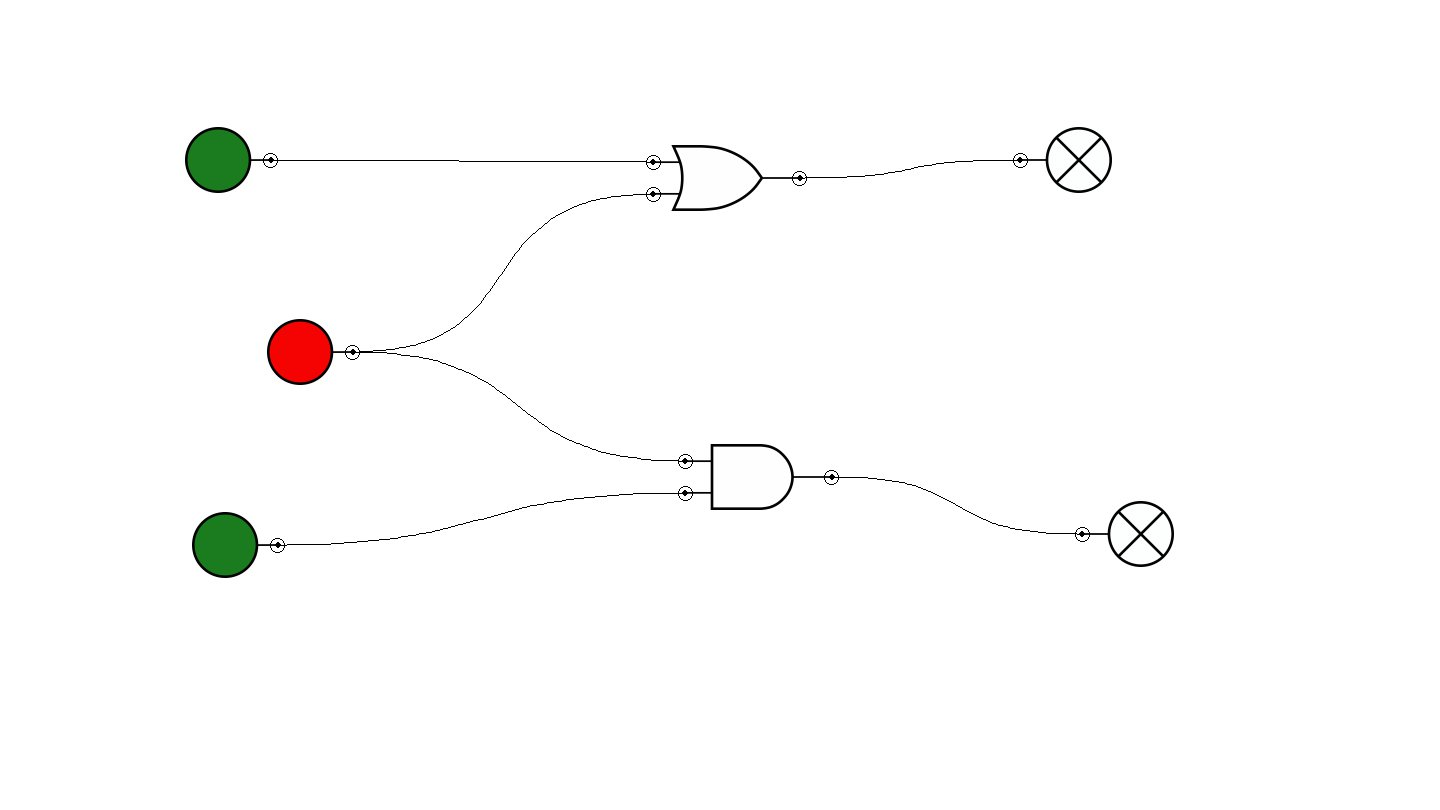and: (678, 444, 839, 510)
bulb: (1075, 501, 1174, 567), (1013, 127, 1112, 193)
or: (646, 145, 807, 211)
switch_False: (267, 319, 360, 385)
switch_True: (185, 127, 278, 193), (192, 512, 285, 578)
